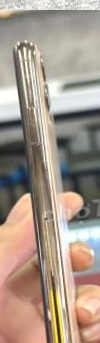scratch: (18, 100, 60, 206)
